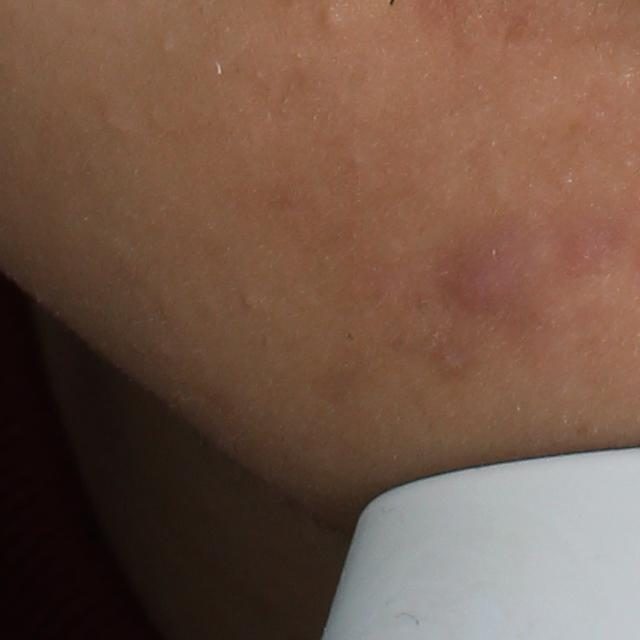comedo: (158, 36, 181, 57), (241, 288, 263, 309)
